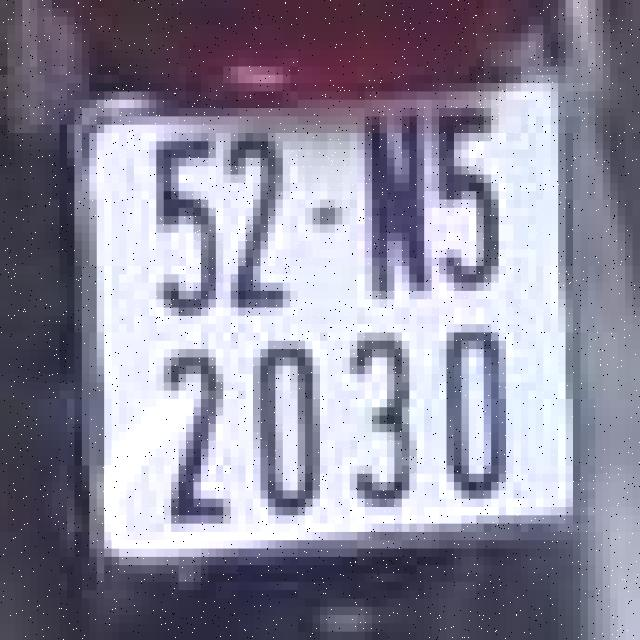0: (245, 332, 328, 516), (436, 320, 518, 495)
2: (219, 125, 294, 316), (160, 341, 234, 532)
3: (346, 324, 421, 507)
5: (428, 96, 502, 295), (145, 125, 220, 316)
N: (349, 100, 432, 299)
